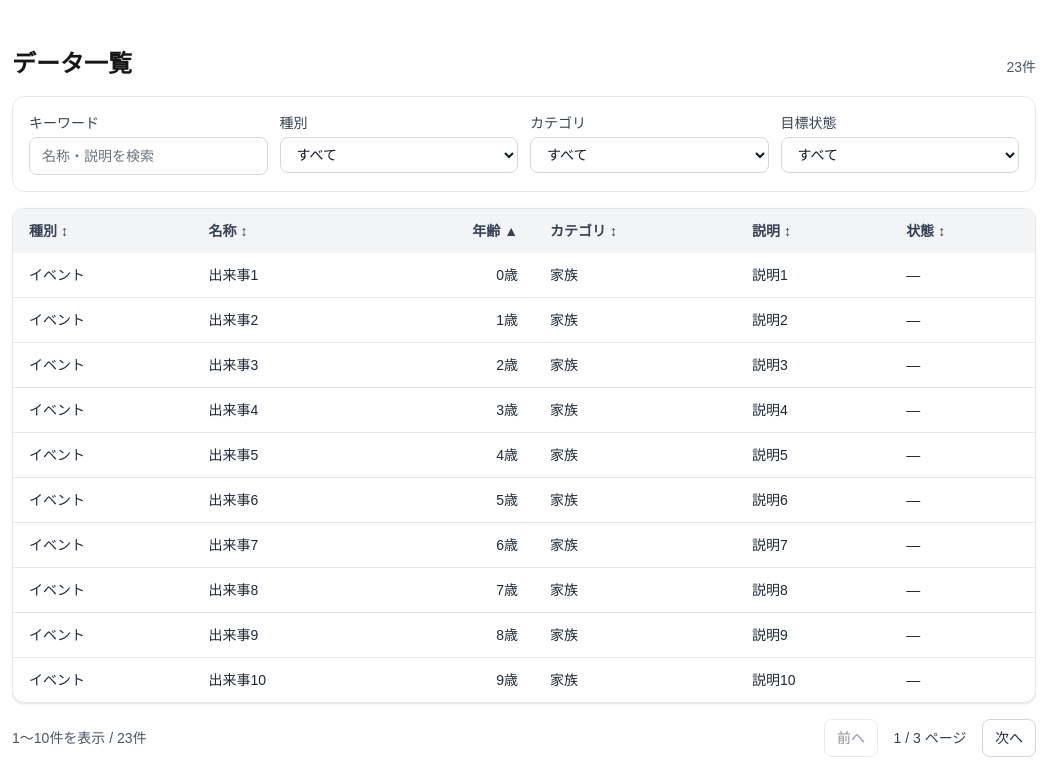
LifeEventTable › 名称または説明のキーワードで検索し、条件変更後は1ページ目へ戻る
Click the button "次へ".
click(1009, 738)  # box [982,719,1036,757]
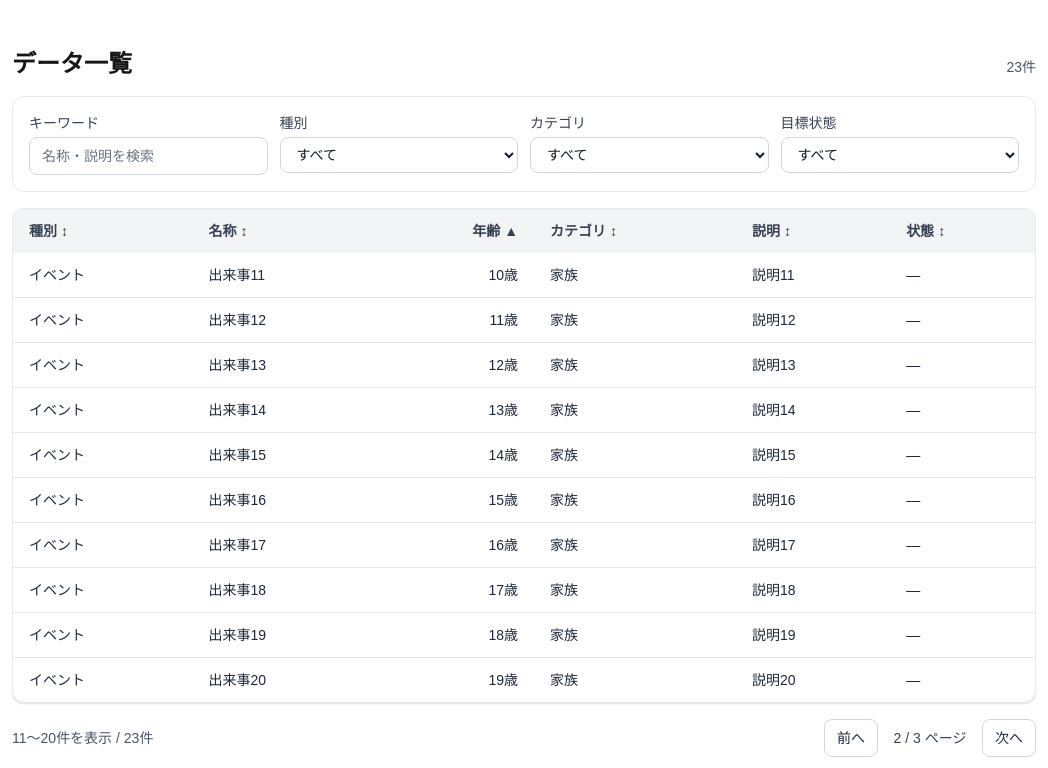
Expected: the text "11〜20件を表示 / 23件" is shown, [12,728,153,748]
Type "出来事1" into the search field labelled "キーワード".
click(148, 156); type("出来事1")  # box [29,137,268,175]
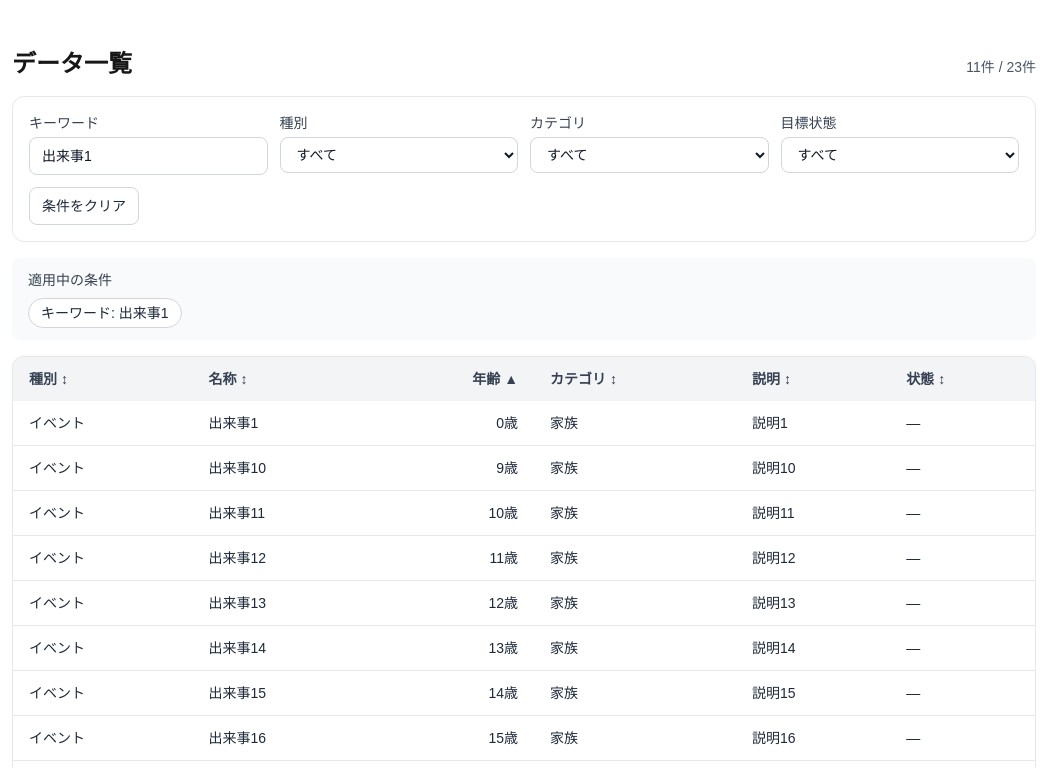
Expected: the list named "適用中の条件" reads "キーワード: 出来事1", [41,305,169,321]
Replace the text in the search field labelled "キーワード" with "説明20" at (148, 156), box [29,137,268,175]
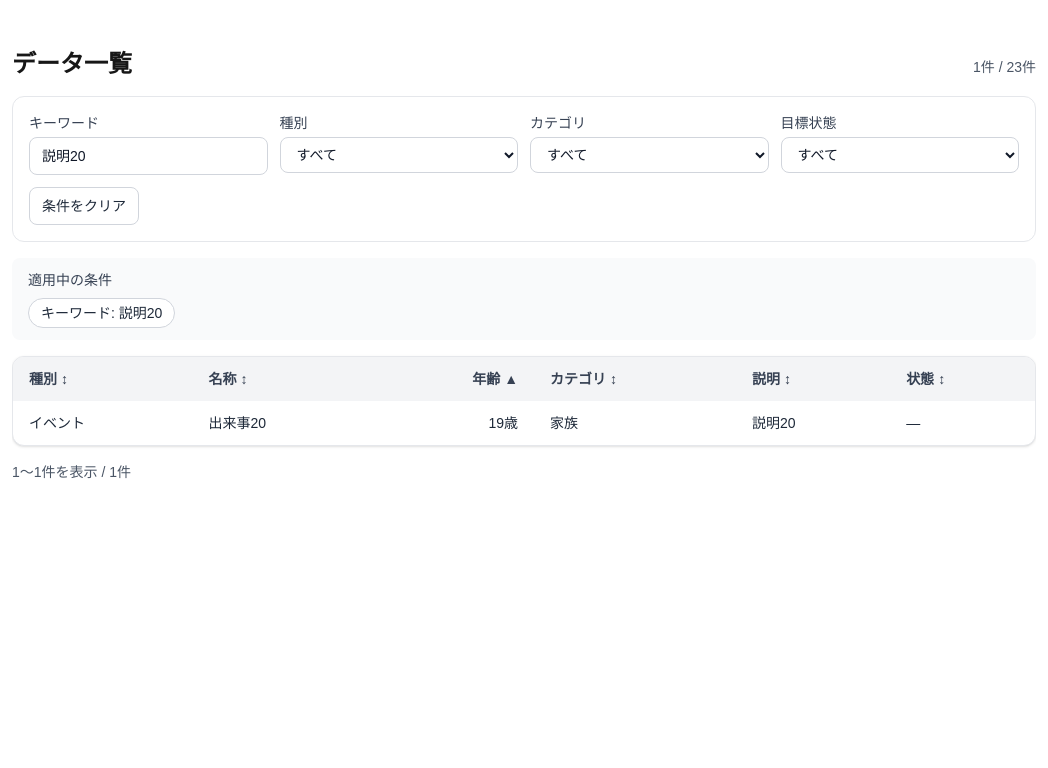
Expected: the text "1〜1件を表示 / 1件" is shown, [12,462,131,482]
Expected: the text "出来事20" is shown, [192,401,375,445]
